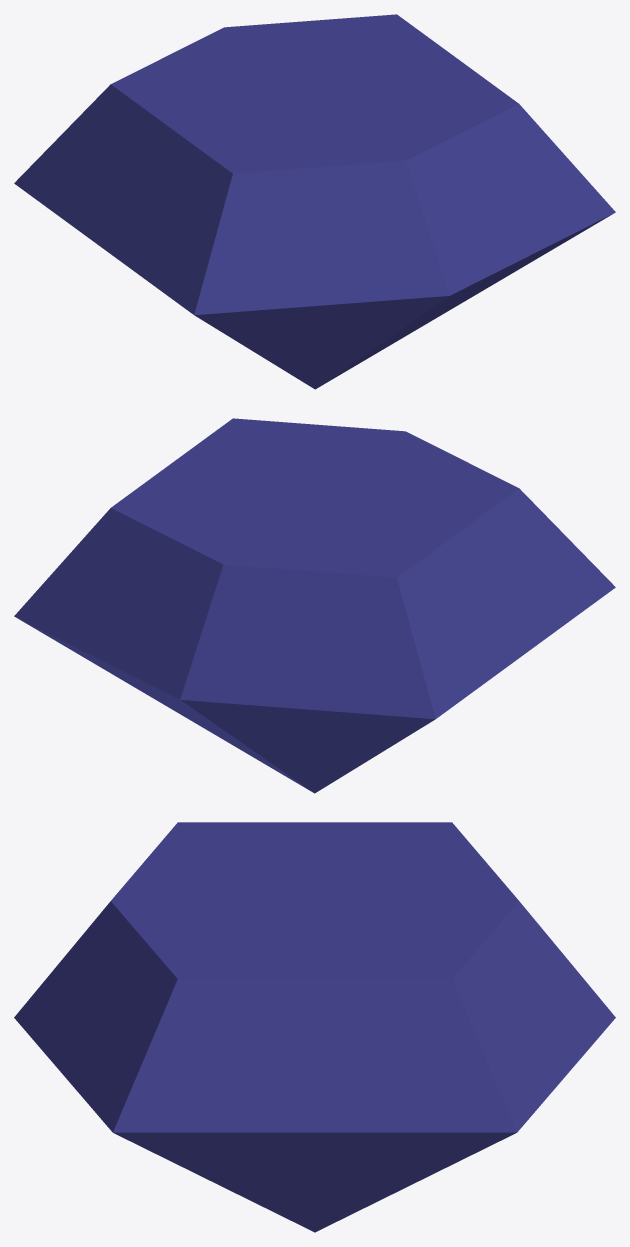
Rendered from Gem.fbx.
3 views of the same model, one above another, from view 1: azimuth 30°, elevation 25°; view 2: azimuth 150°, elevation 25°; view 3: azimuth 270°, elevation 25° (orthographic). The views are drawn at different scales.
Parts seen in each view (by area): view 1: Gem; view 2: Gem; view 3: Gem.
Boxes of the visible parts, bbox=[...] form: Gem: bbox=[14, 14, 615, 389]; Gem: bbox=[14, 418, 615, 793]; Gem: bbox=[14, 822, 615, 1232].
Bounding box in the file's own units: 1.04 × 0.6983 × 1.15.
